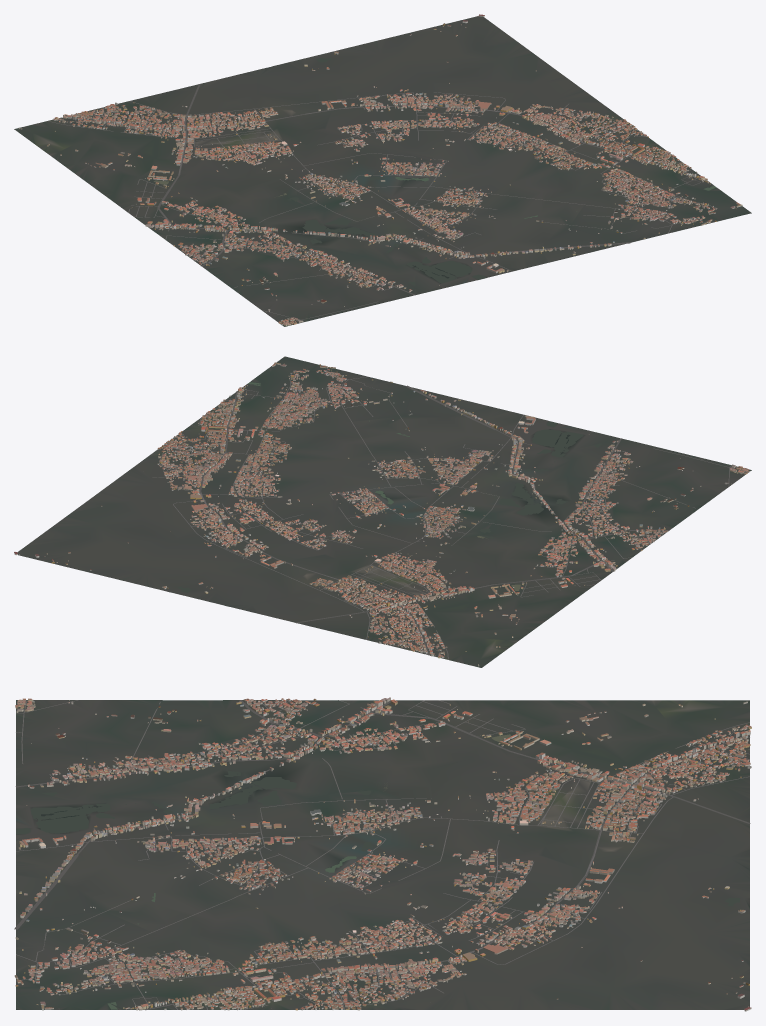
3 renders of one model, top to bottom at view 1: azimuth 30°, elevation 25°; view 2: azimuth 150°, elevation 25°; view 3: azimuth 270°, elevation 25°, orthographic. The views are drawn at different scales.
Visible parts, largest first — view 1: ground, buildings, roads, water; view 2: ground, buildings, roads, water; view 3: ground, buildings, roads, water.
Boxes of the visible parts, <box> form: ground: <box>14,16,751,326</box>; buildings: <box>18,14,742,325</box>; roads: <box>48,84,713,324</box>; water: <box>153,53,716,285</box>; ground: <box>14,356,751,667</box>; buildings: <box>14,362,749,666</box>; roads: <box>152,367,745,659</box>; water: <box>169,382,601,605</box>; ground: <box>16,700,749,1009</box>; buildings: <box>14,697,751,1011</box>; roads: <box>14,700,750,1010</box>; water: <box>16,734,749,1009</box>.
Bounding box in the file's own units: 2816 × 24.6 × 2819.
